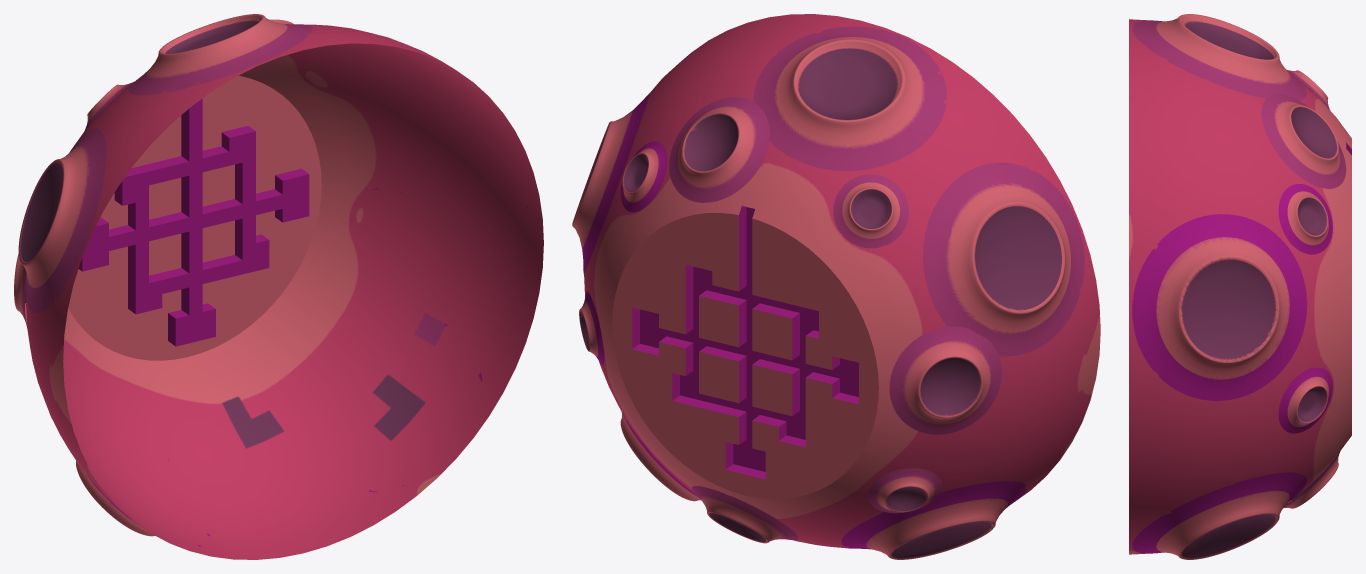
File: LEVEL V2.fbx
3 renders of one model, left to right at view 1: azimuth 30°, elevation 25°; view 2: azimuth 150°, elevation 25°; view 3: azimuth 270°, elevation 25°, orthographic. The views are drawn at different scales.
Parts seen in each view (by area): view 1: world 1.001; view 2: world 1.001; view 3: world 1.001.
Part boxes in pixels (<box>): world 1.001: <box>14,14,543,559</box>; world 1.001: <box>572,14,1100,559</box>; world 1.001: <box>1129,14,1351,559</box>.
Bounding box in the file's own units: 7212 × 7307 × 2993.
